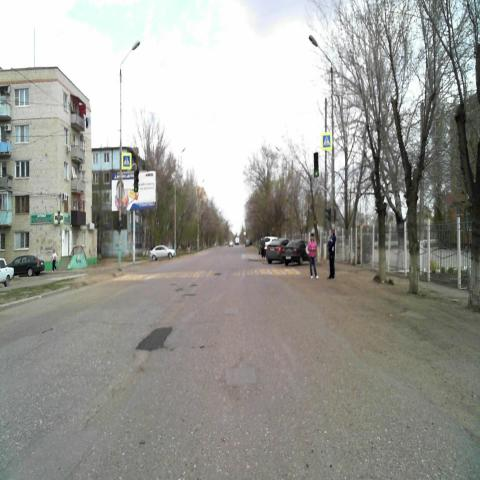5_19_1: (121, 151, 132, 170), (322, 132, 332, 151)
